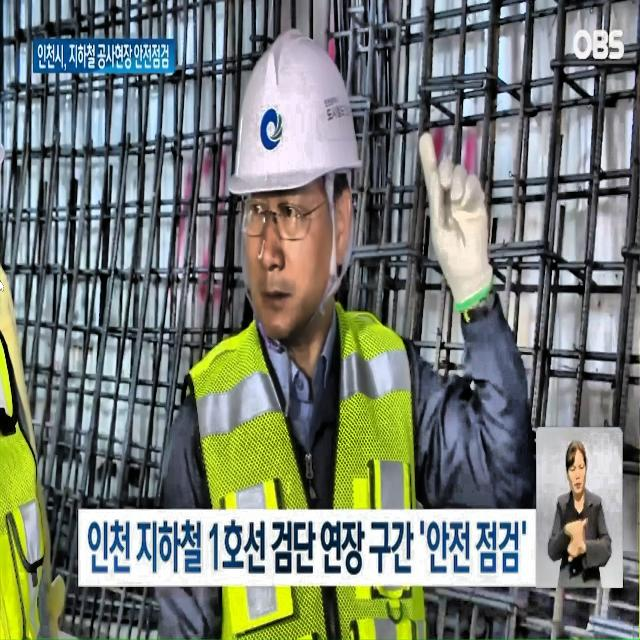safety_helmet: (219, 21, 367, 200)
safety_jacket: (191, 295, 429, 640), (0, 336, 52, 640)
